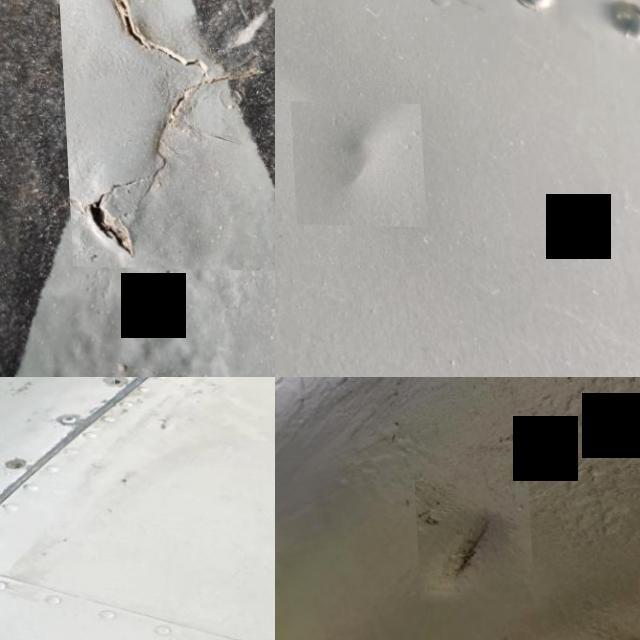Crack: (55, 0, 275, 269)
Dent: (287, 100, 422, 226), (410, 480, 530, 603)
